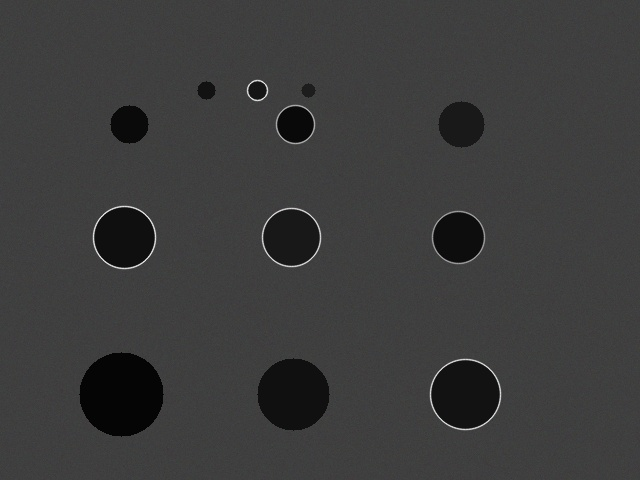hole: (79, 352, 163, 436), (257, 358, 329, 430), (430, 359, 500, 429), (93, 206, 155, 268), (262, 208, 320, 266), (432, 211, 484, 263), (438, 101, 484, 147), (110, 105, 148, 143), (276, 105, 314, 143), (247, 80, 267, 100), (197, 81, 215, 99), (301, 83, 315, 97)
